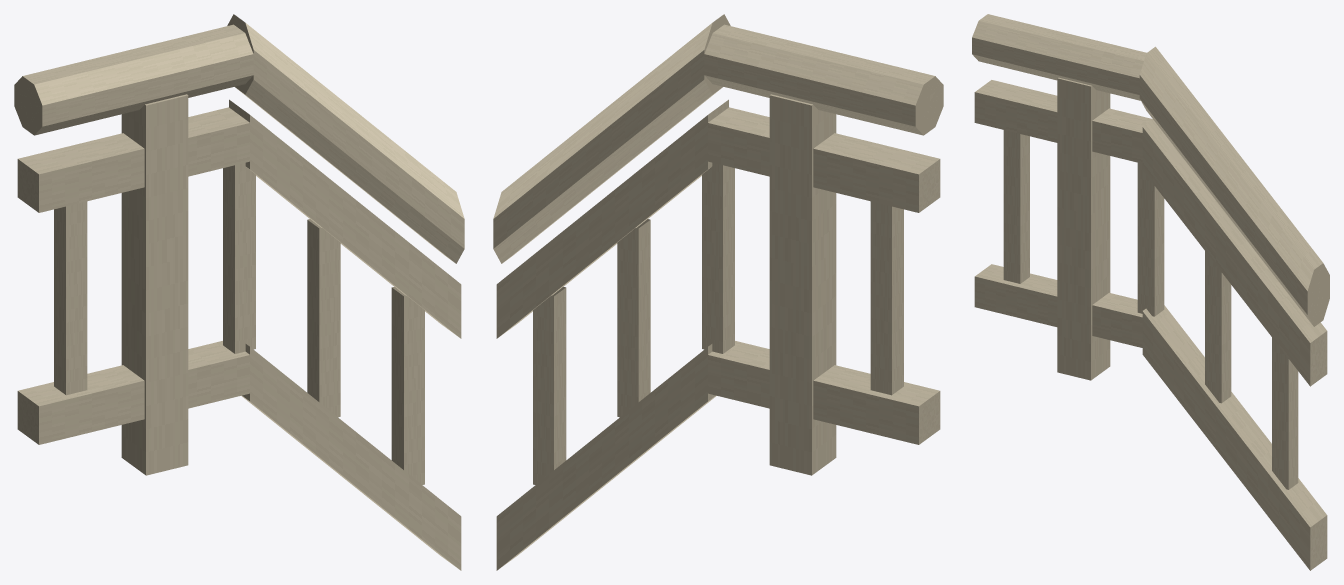
The model's file is top_neg.obj.
3 renders of one model, left to right at view 1: azimuth 30°, elevation 25°; view 2: azimuth 150°, elevation 25°; view 3: azimuth 330°, elevation 25°, orthographic. The views are drawn at different scales.
Parts seen in each view (by area): view 1: railing_picket_round_beige_top_neg; view 2: railing_picket_round_beige_top_neg; view 3: railing_picket_round_beige_top_neg.
Part boxes in pixels (bbox=[...]): railing_picket_round_beige_top_neg: bbox=[14, 14, 464, 570]; railing_picket_round_beige_top_neg: bbox=[493, 14, 943, 570]; railing_picket_round_beige_top_neg: bbox=[972, 14, 1329, 570].
Size of the model in its own units: 1 by 1.35 by 0.1155.
